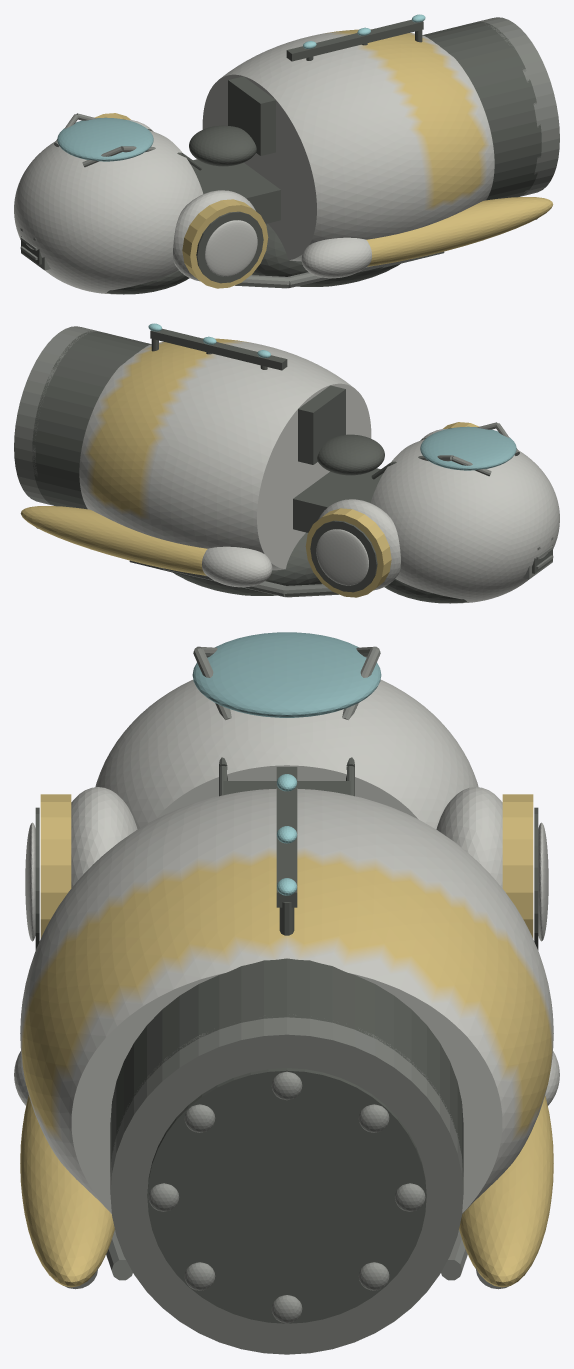
File: unibomba_white_off.glb
3 renders of one model, top to bottom at view 1: azimuth 30°, elevation 25°; view 2: azimuth 150°, elevation 25°; view 3: azimuth 270°, elevation 25°, orthographic. The views are drawn at different scales.
Visible parts, largest first — view 1: hull_rear_0, nose_1, engine_rear_housing_17, side_skid_12, main_engine_rim_18, windscreen_6, cockpit_chassis_3, seat_back_5, nacelle_gold_rim_9, skid_nose_13, nacelle_hub_11, seat_4 (+7 smaller); view 2: hull_rear_0, nose_1, engine_rear_housing_17, side_skid_12, main_engine_rim_18, windscreen_6, cockpit_chassis_3, seat_back_5, nacelle_gold_rim_9, skid_nose_13, nacelle_hub_11, seat_4 (+7 smaller); view 3: hull_rear_0, main_engine_dark_interior_19, main_engine_rim_18, nose_1, engine_rear_housing_17, side_skid_12, windscreen_6, nose_side_nacelle_8, nacelle_gold_rim_9, engine_vane_20, top_ridge_22, nacelle_hub_11 (+6 smaller).
Part boxes in pixels (box(x1,y1,x2,y2)): hull_rear_0: box(202, 29, 494, 261); nose_1: box(14, 130, 203, 294); engine_rear_housing_17: box(422, 21, 541, 200); side_skid_12: box(366, 197, 553, 266); main_engine_rim_18: box(474, 17, 559, 196); windscreen_6: box(57, 117, 153, 161); cockpit_chassis_3: box(190, 159, 280, 223); seat_back_5: box(228, 76, 275, 155); nacelle_gold_rim_9: box(95, 113, 268, 288); skid_nose_13: box(301, 237, 371, 278); nacelle_hub_11: box(205, 220, 257, 276); seat_4: box(189, 125, 256, 166); hull_rear_0: box(79, 338, 371, 570); nose_1: box(370, 439, 559, 603); engine_rear_housing_17: box(32, 330, 151, 509); side_skid_12: box(20, 506, 207, 575); main_engine_rim_18: box(14, 326, 100, 505); windscreen_6: box(420, 426, 516, 470); cockpit_chassis_3: box(293, 468, 383, 532); seat_back_5: box(298, 385, 345, 464); nacelle_gold_rim_9: box(305, 422, 478, 597); skid_nose_13: box(202, 546, 272, 587); nacelle_hub_11: box(316, 529, 368, 585); seat_4: box(317, 434, 384, 475); hull_rear_0: box(20, 788, 553, 1213); main_engine_dark_interior_19: box(147, 1068, 426, 1323); main_engine_rim_18: box(110, 1014, 463, 1354); nose_1: box(95, 680, 478, 829); engine_rear_housing_17: box(110, 958, 463, 1176); side_skid_12: box(20, 1095, 553, 1287); windscreen_6: box(192, 632, 381, 717); nose_side_nacelle_8: box(71, 787, 502, 888); nacelle_gold_rim_9: box(40, 794, 533, 938); engine_vane_20: box(148, 1071, 425, 1323); top_ridge_22: box(276, 767, 297, 907); nacelle_hub_11: box(25, 822, 548, 941).
Bounding box in the file's own units: 5.45 × 2.47 × 2.66.
